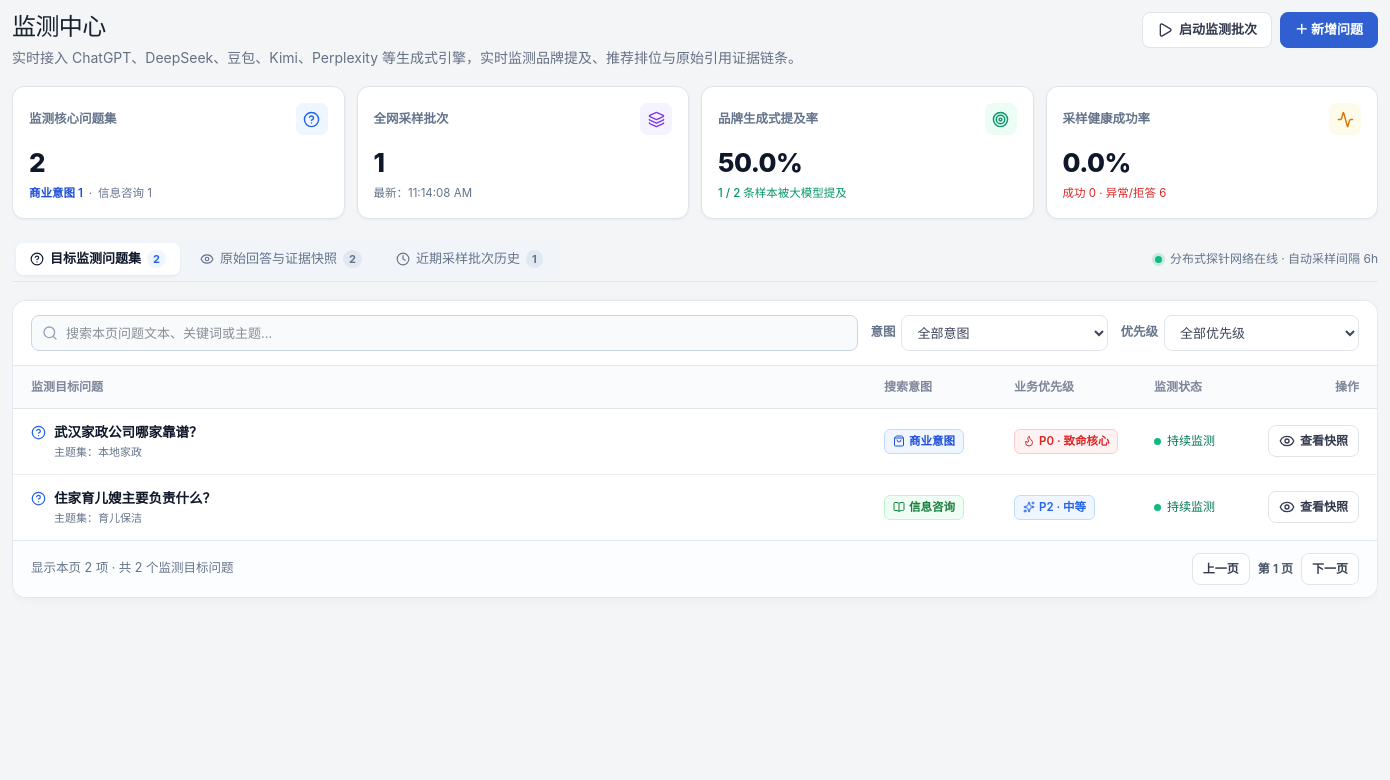
Test case: MonitorView Component Professional Redesign › switches to batch runs tab and shows execution progress
Click the text "近期采样批次历史" at (468, 259), box [416,249,520,269]
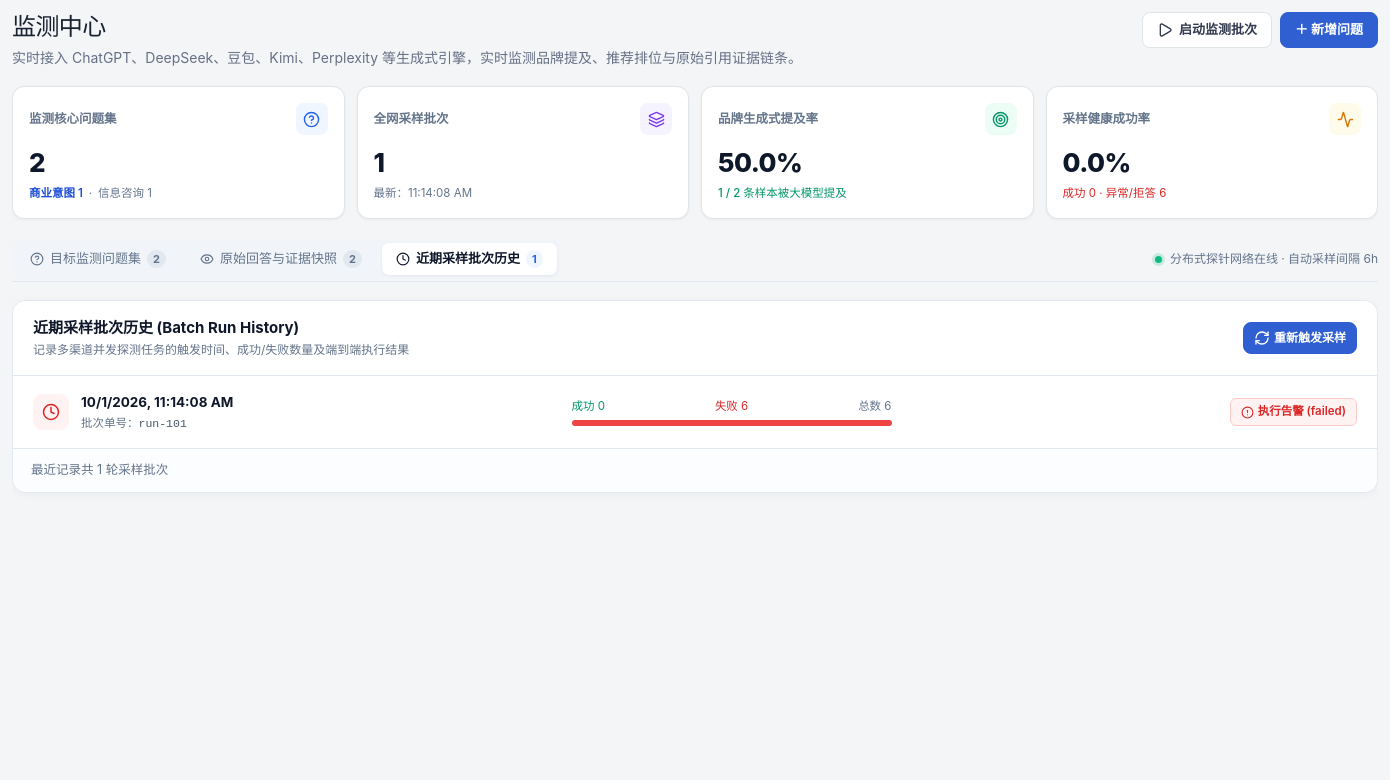
Now the heading "近期采样批次历史 (Batch Run History)" is shown, box [33,318,299,337]
Now the text "执行告警 (failed)" is shown, box [1258,403,1346,421]
Now the text "失败 6" is shown, box [715,398,748,416]
